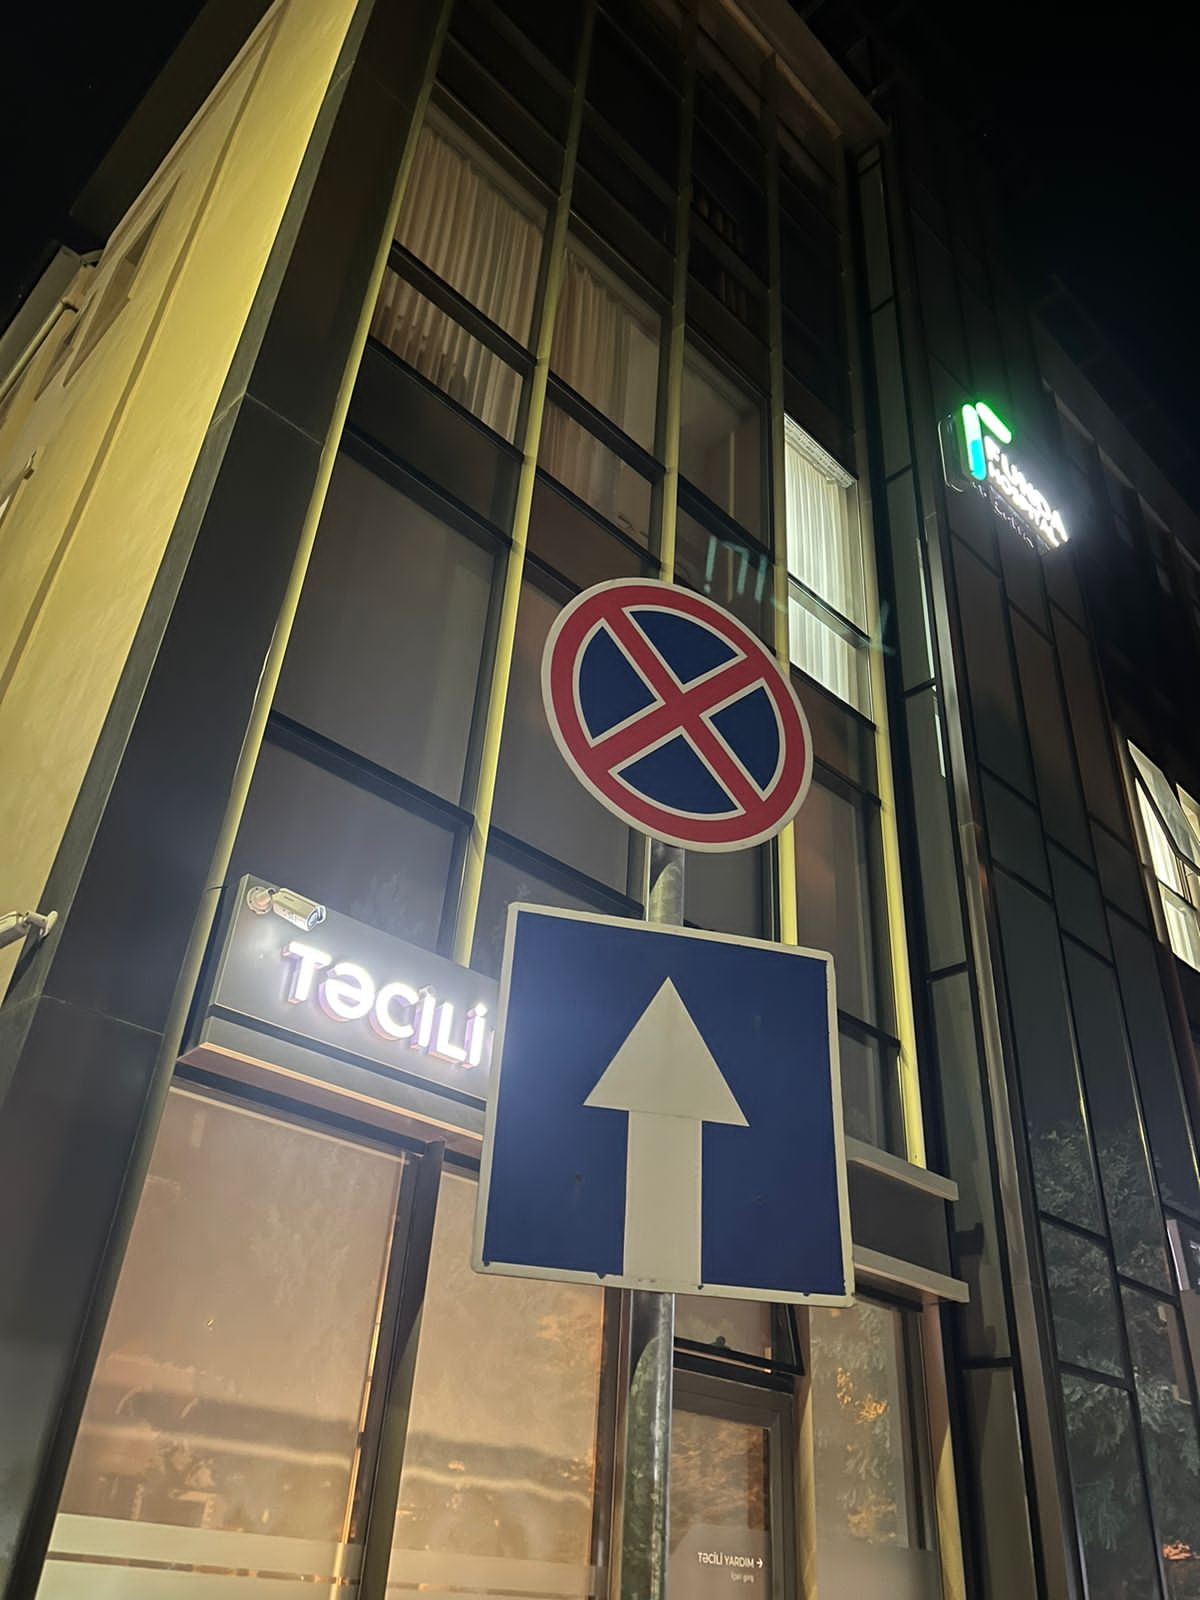No Parking: (539, 577, 816, 854)
